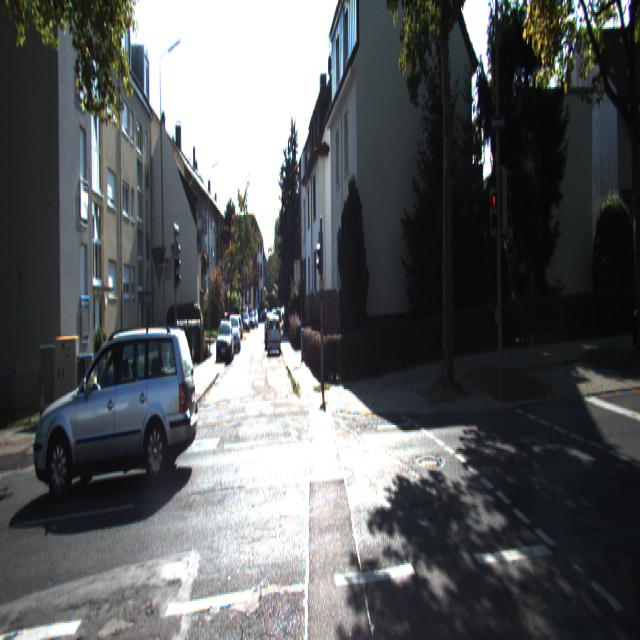Car: (30, 324, 202, 502), (628, 270, 640, 355), (216, 321, 234, 363), (266, 315, 281, 357)
